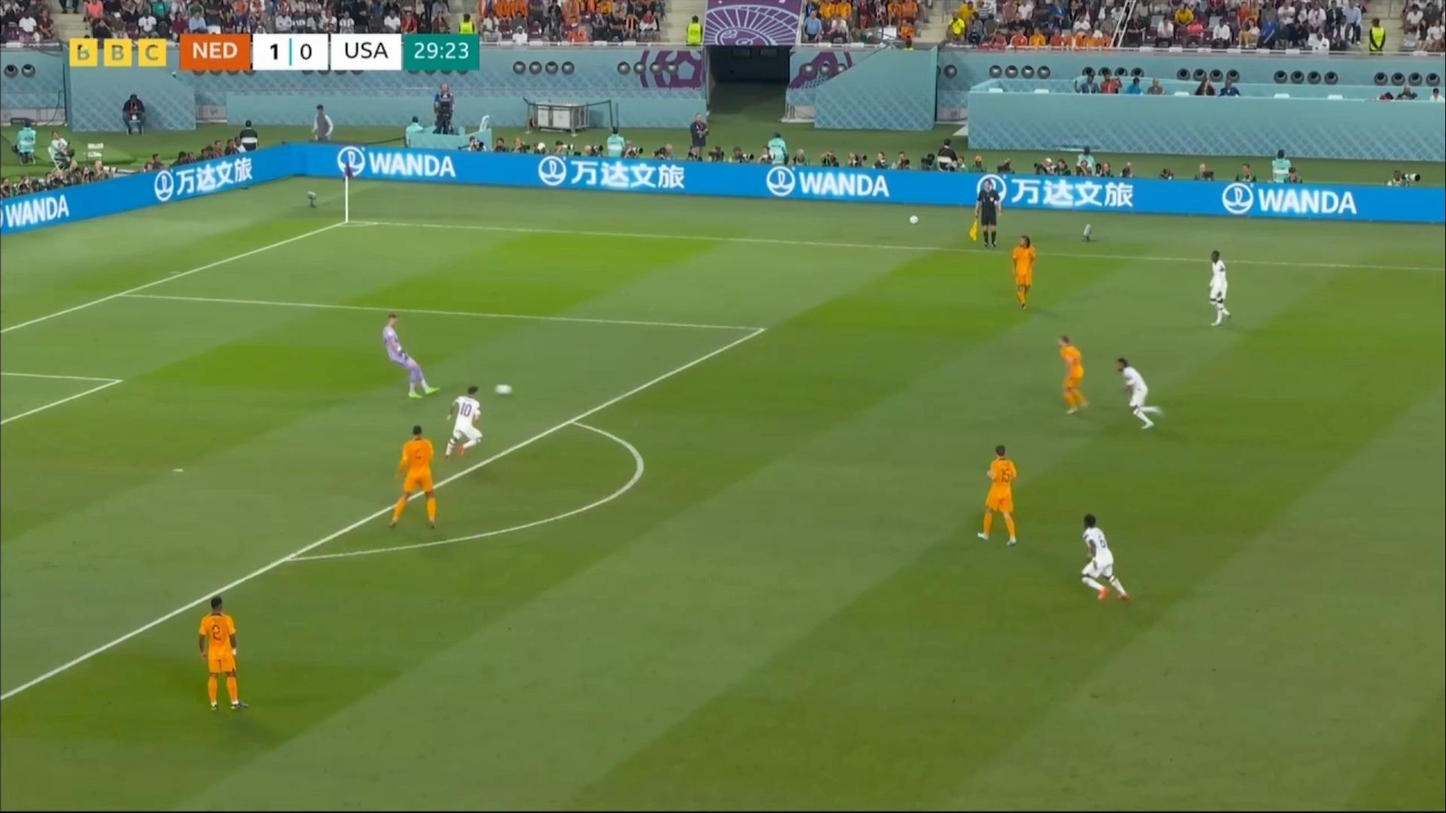Ball: (498, 383, 515, 397), (908, 214, 919, 227)
Player: (191, 596, 251, 714), (387, 425, 451, 526), (976, 441, 1028, 549), (1074, 511, 1130, 604), (382, 313, 440, 400), (1115, 355, 1166, 435), (439, 384, 491, 462), (1050, 331, 1091, 416), (1204, 248, 1238, 332), (1008, 235, 1041, 311)
Ref: (974, 171, 1009, 250)
